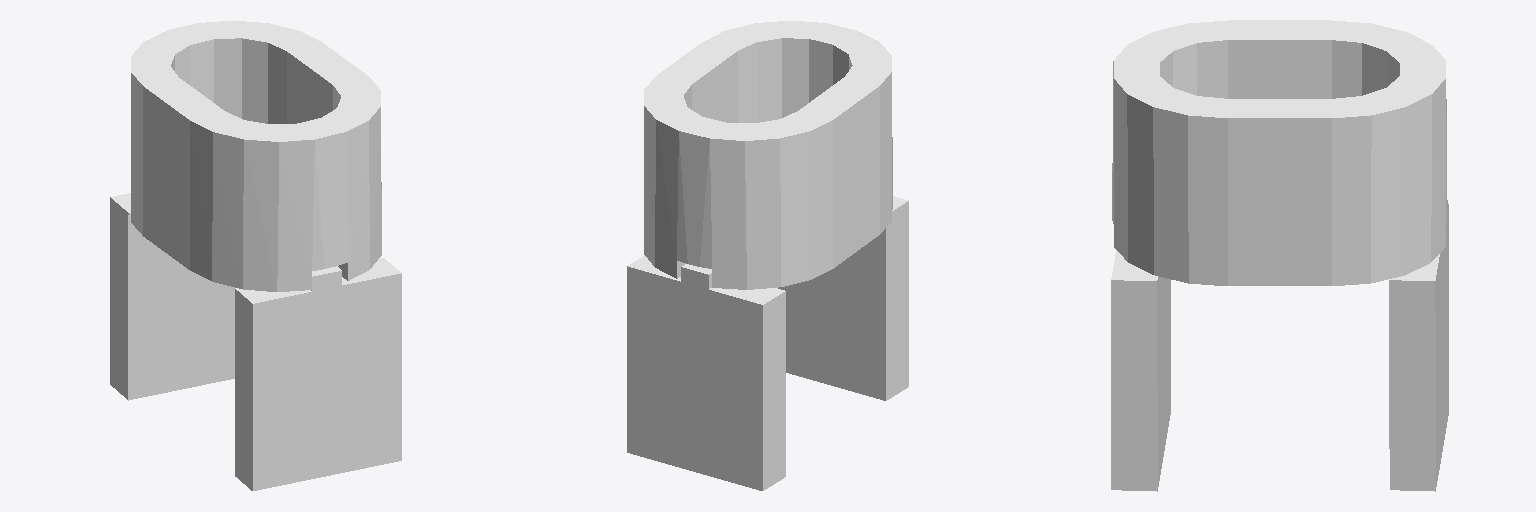
The robot description file, URDF, robot "scara_tweezer":
<?xml version="1.0" ?>
<robot name="scara_tweezer">


  <link name="base_link">


    <visual>
      <origin rpy="0 0 0" xyz="0 0 0"/>
      <geometry>
        <mesh filename="package://tweezer/meshes/visual/scara_twbase.stl"/>
      </geometry>
      <material name="white">
        <color rgba="1 1 1 1"/>
      </material>
    </visual>

  </link>

    <link name="invisible_link">
    <inertial>
      <mass value="0.001"/>
      <origin rpy="0 0 0" xyz="0 0 0"/>
      <inertia ixx="1e-5" ixy="0" ixz="0" iyy="1e-5" iyz="0" izz="1e-5"/>
    </inertial>
    
    <visual>
      <origin rpy="0 0 0" xyz="0 0 0"/>
      <geometry>
        <mesh filename="package://tweezer/meshes/visual/scara_twbase.stl"/>
      </geometry>
    </visual>
    <collision>
      <origin rpy="0 0 0" xyz="0 0 0"/>
      <geometry>
        <mesh filename="package://tweezer/meshes/visual/scara_twbase.stl"/>
      </geometry>
    </collision>
    <contact>
    	<friction_anchor/>
    	   <lateral_friction value="1.0"/>
    </contact>
  </link>

  <link name="phalanx1">
    <inertial>
      <mass value="0.01"/>
      <origin rpy="0 0 0" xyz="0 0 0"/>
      <inertia ixx="1e-5" ixy="0" ixz="0" iyy="1e-5" iyz="0" izz="1e-5"/>
    </inertial>

    <contact>
    	<friction_anchor/>
    	   <lateral_friction value="1.0"/>
    </contact>

    <visual>
      <origin rpy="0 3.14 1.5" xyz="0 0.03 -0.011"/>
      <geometry>
        <mesh filename="package://tweezer/meshes/visual/scara_twpatita.stl"/>
      </geometry>
      <material name="white">
        <color rgba="1 1 1 1"/>
      </material>
    </visual>

    <collision>
      <origin rpy="0 3.14 1.5" xyz="0 0.03 -0.011"/>
      <geometry>
        <mesh filename="package://tweezer/meshes/collision/scara_twpatita.stl"/>
      </geometry>
    </collision>
  </link>

  <link name="phalanx2">
    <inertial>
      <mass value="0.01"/>
      <origin rpy="0 0 0" xyz="0 0 0"/>
      <inertia ixx="1e-5" ixy="0" ixz="0" iyy="1e-5" iyz="0" izz="1e-5"/>
    </inertial>

    <visual>
      <origin rpy="0 3.14 1.5" xyz="0 -0.03 -0.011"/>
      <geometry>
        <mesh filename="package://tweezer/meshes/visual/scara_twpatita.stl"/>
      </geometry>
      <material name="white">
        <color rgba="1 1 1 1"/>
      </material>
    </visual>

    <collision>
      <origin rpy="0 3.14 1.5" xyz="0 -0.03 -0.011"/>
      <geometry>
        <mesh filename="package://tweezer/meshes/collision/scara_twpatita.stl"/>
      </geometry>
    </collision>

    <contact>
    	<friction_anchor/>
    	   <lateral_friction value="1.0"/>
    </contact>

  </link>

  <joint name="rotacion_gripper" type="revolute">
    <parent link="base_link"/>
    <child link="invisible_link"/>
    <origin xyz="0 0 0"/>
    <axis xyz="0 0 1"/>
    <limit lower="-1.57" upper="1.57" effort="35" velocity="8" />
  </joint>

  <joint name="joint1" type="prismatic">
    <parent link="invisible_link"/>
    <child link="phalanx1"/>
    <origin xyz="0 0 0"/>
    <axis xyz="0 1 0"/>
    <limit lower="-0.03" upper="0" effort="10" velocity="1"/>
  </joint>

  <joint name="joint2" type="prismatic">
    <parent link="invisible_link"/>
    <child link="phalanx2"/>
    <origin xyz="0 0 0"/>
    <axis xyz="0 1 0"/>
    <limit lower="0" upper="0.03" effort="10" velocity="1"/>
  </joint>

</robot>

--- What the picture shows (computed from the rendered views, not written in the file) ---
3 views of the same robot in one strip: view 1: azimuth 30°, elevation 25°; view 2: azimuth 150°, elevation 25°; view 3: azimuth 270°, elevation 25° (orthographic).
Model scara_tweezer with 4 links and 3 joints (1 revolute, 2 prismatic), rooted at base_link, posed all joints at 0.
Visible links, largest first — view 1: base_link, phalanx2, phalanx1; view 2: base_link, phalanx1, phalanx2; view 3: base_link, phalanx1, phalanx2.
Link boxes in pixels (box(x1,y1,x2,y2)): base_link: box(131, 20, 381, 291); phalanx2: box(235, 258, 401, 490); phalanx1: box(110, 193, 234, 400); base_link: box(644, 21, 892, 289); phalanx1: box(627, 255, 785, 490); phalanx2: box(778, 196, 908, 400); base_link: box(1112, 20, 1447, 285); phalanx1: box(1389, 203, 1448, 491); phalanx2: box(1111, 250, 1170, 491).
Size in the robot's own frame: 0.05 by 0.0729 by 0.091 metres.
4 mesh visuals loaded from 2 distinct referenced files (2 binary STL).
